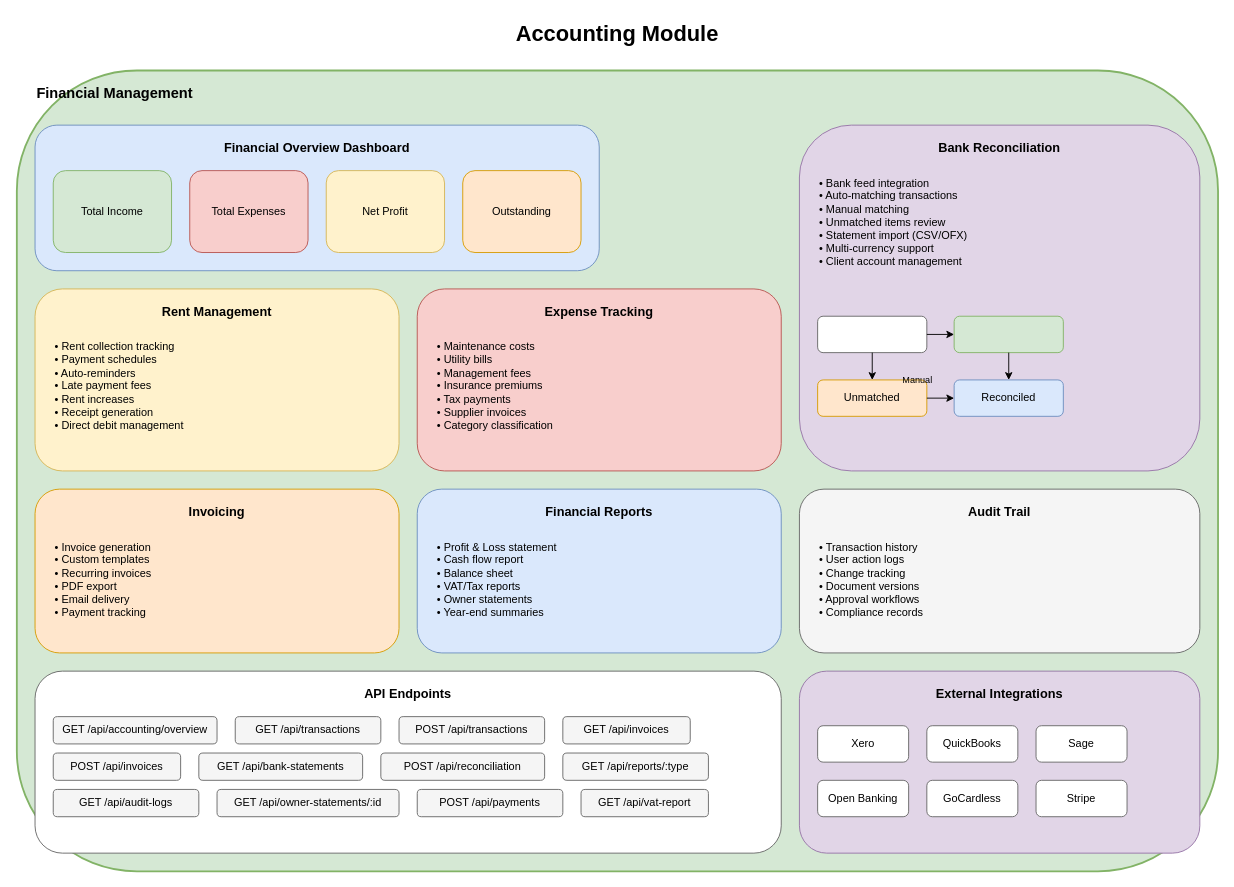
This 1234x887 diagram has some shape labels left out. The box of each missing label's shape, as (x1, y1, x2, y2) in pixels:
Auto-Match: (953, 315, 1063, 353)
Bank Statement: (817, 315, 927, 353)
